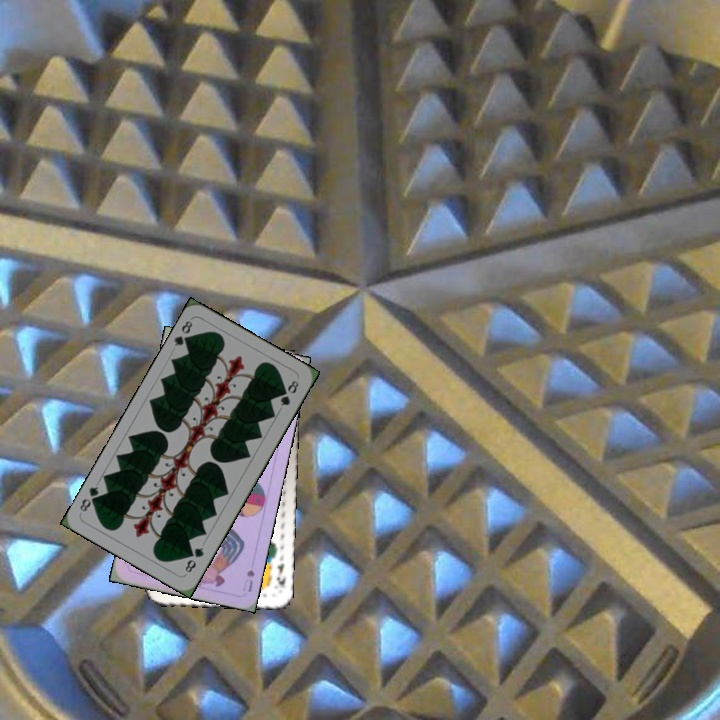EK: (273, 559, 288, 590)
G8: (170, 316, 195, 349), (181, 543, 206, 575)
SU: (239, 566, 257, 595)
